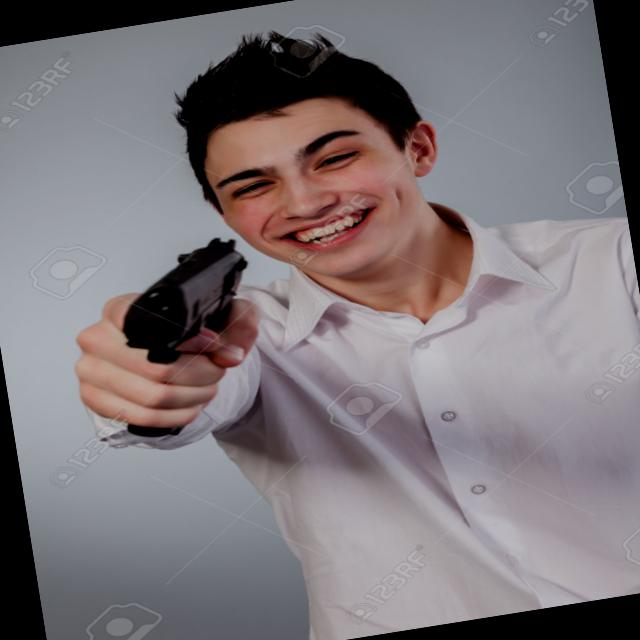handgun: (94, 225, 280, 448)
